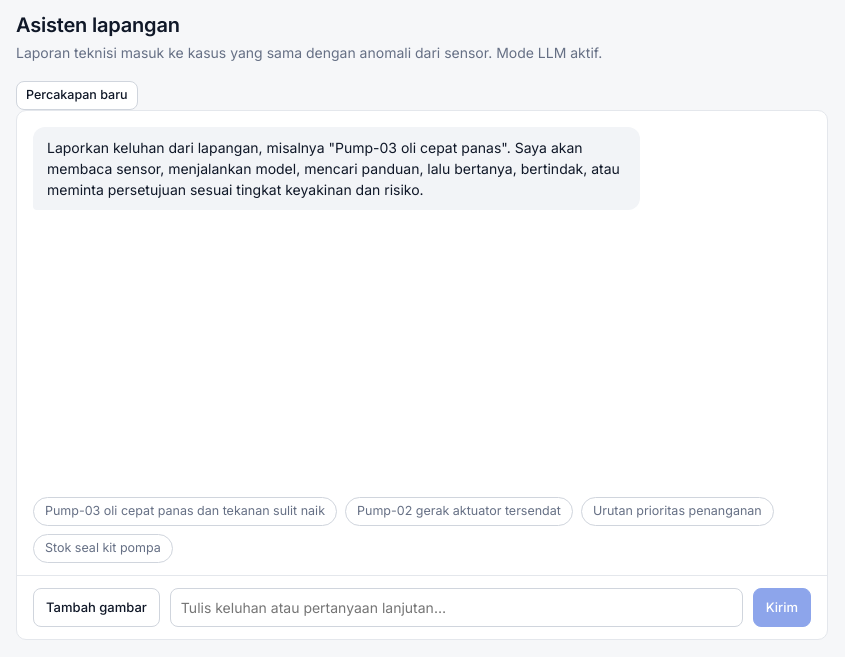
Test: keeps a completed LLM case as context for the next question
In the field named "Pesan untuk asisten": point(456, 607) left=170, top=588, right=743, bottom=627, type "Periksa Pump-01"
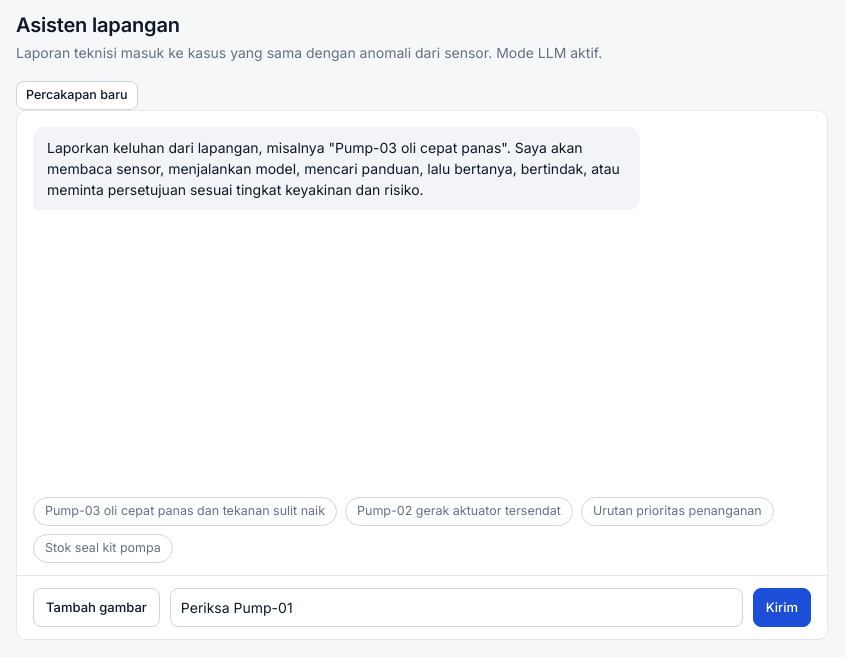
Click the button "Kirim": point(782, 607) left=753, top=588, right=811, bottom=627
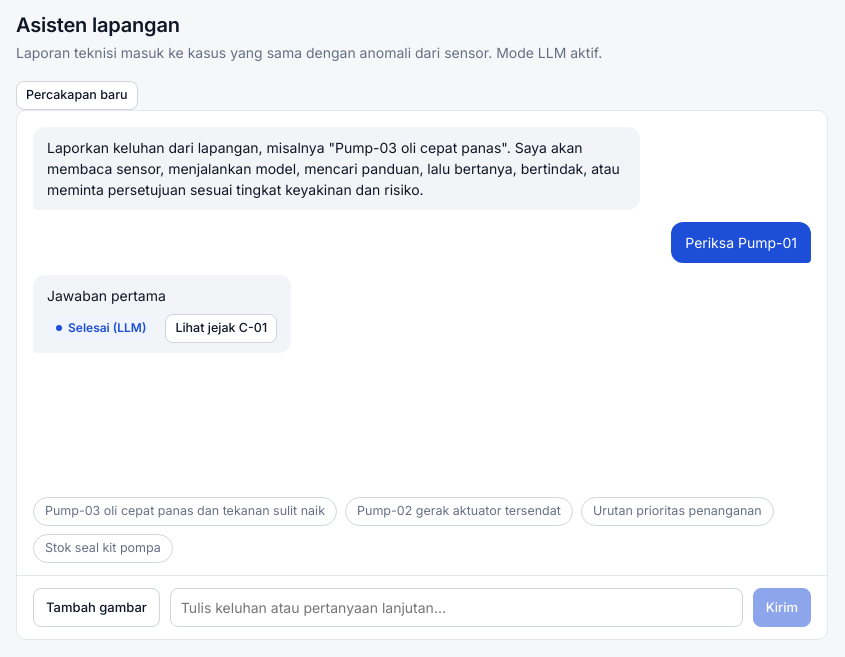
Now the text "Jawaban pertama" is shown, box left=47, top=287, right=166, bottom=304
In the field named "Pesan untuk asisten": point(456, 607) left=170, top=588, right=743, bottom=627, type "Kenapa begitu?"
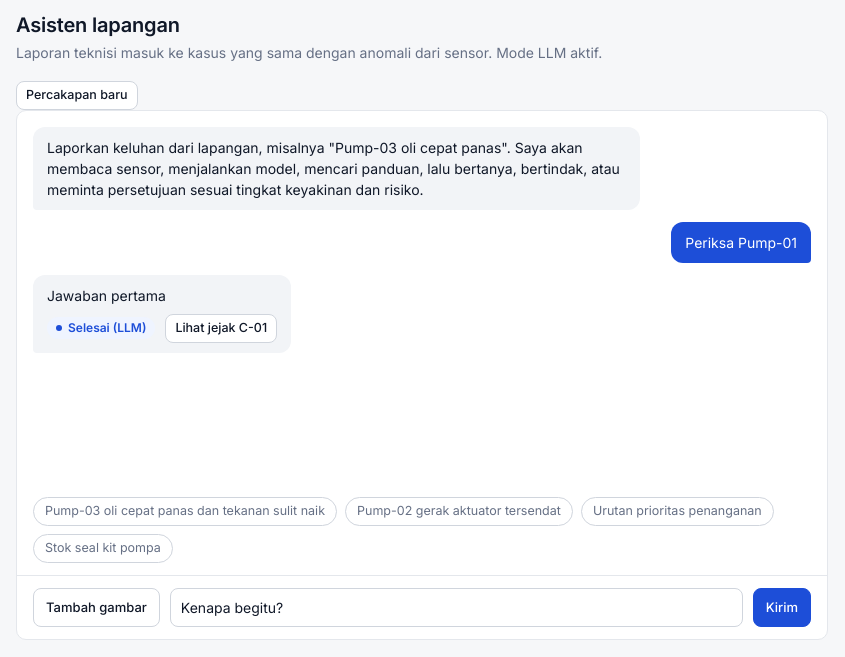
Click the button "Kirim": point(782, 607) left=753, top=588, right=811, bottom=627
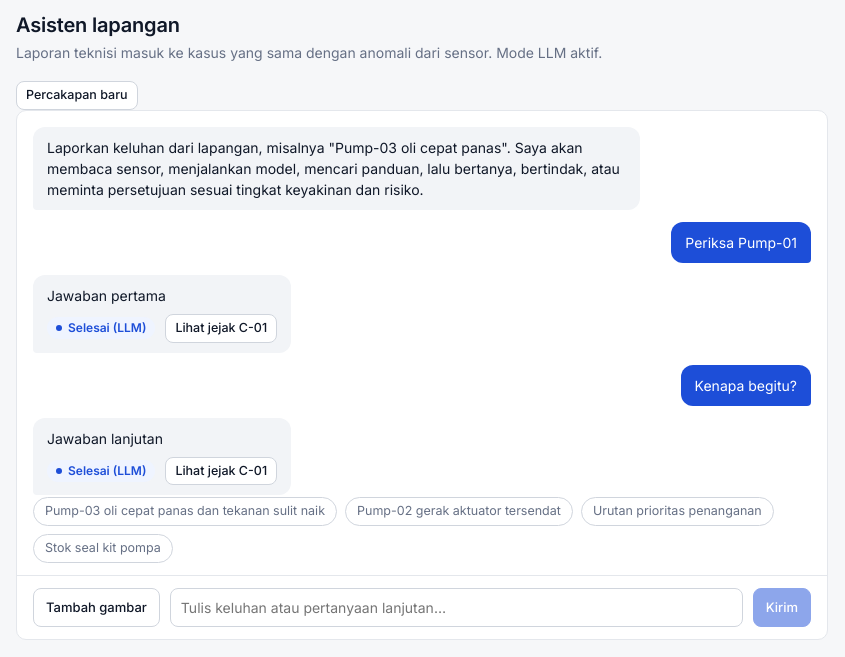
Now the text "Jawaban lanjutan" is shown, box left=47, top=430, right=163, bottom=446
